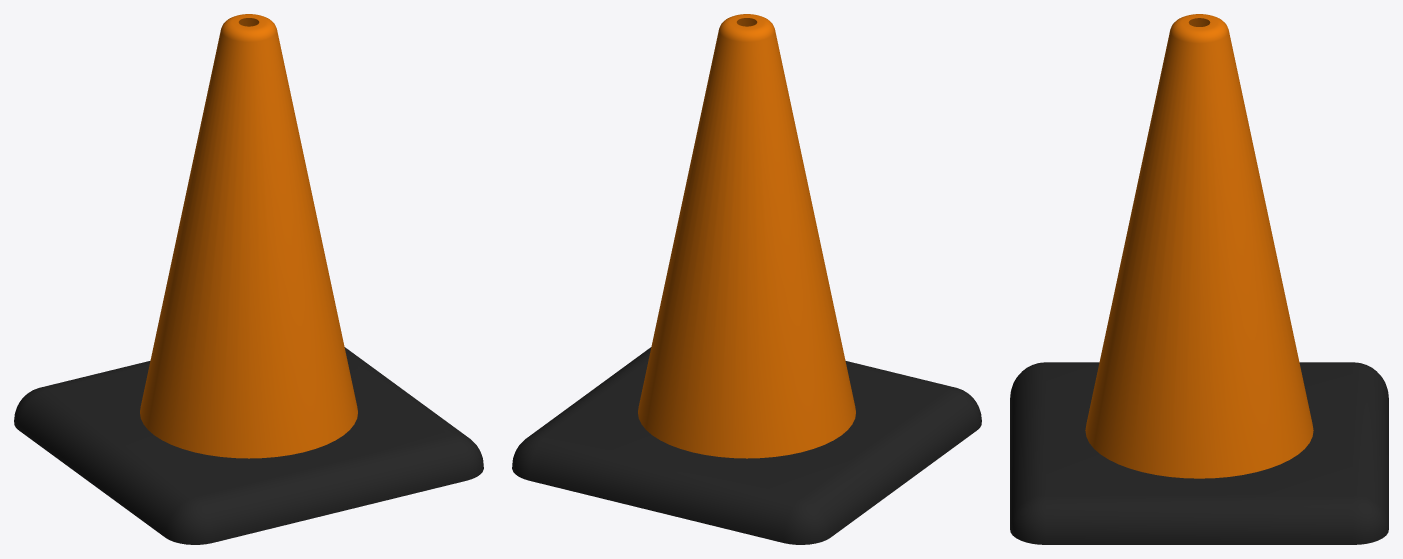
3 views of the same model, side by side, from view 1: azimuth 30°, elevation 25°; view 2: azimuth 150°, elevation 25°; view 3: azimuth 270°, elevation 25° (orthographic). The views are drawn at different scales.
Parts seen in each view (by area): view 1: Cone, Base; view 2: Cone, Base; view 3: Cone, Base.
Boxes of the visible parts, box(x1,y1,x2,y2) form: Cone: box(140, 14, 357, 458); Base: box(14, 347, 483, 544); Cone: box(638, 14, 855, 458); Base: box(512, 347, 981, 544); Cone: box(1085, 14, 1313, 478); Base: box(1010, 362, 1388, 544).
Bounding box in the file's own units: 200 × 258 × 200.
